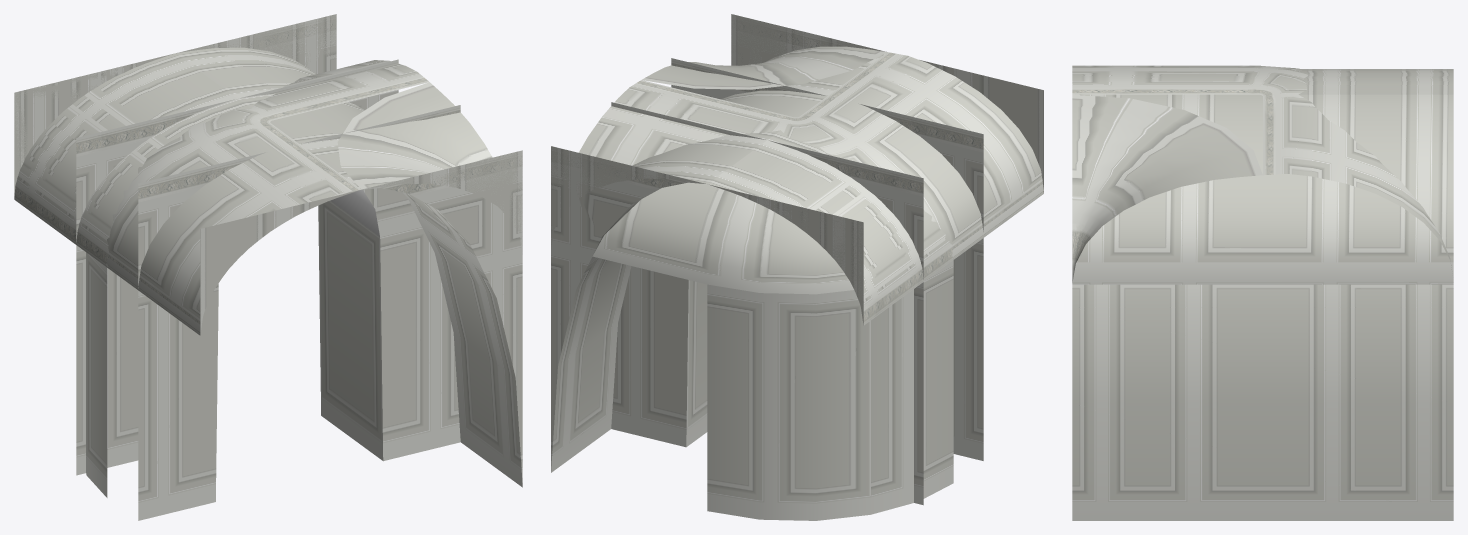
Rendered from E02_vaults.fbx.
3 views of the same model, side by side, from view 1: azimuth 30°, elevation 25°; view 2: azimuth 150°, elevation 25°; view 3: azimuth 270°, elevation 25° (orthographic). The views are drawn at different scales.
Parts seen in each view (by area): view 1: E02_wall_add_on_01, E02_wall_add_on_01_2, E02_vault_turn_int, E02_vault, E02_vault_turn_ext, E02_vault_half_R, vault_wall_corner, E02_vault_half_lid_R1, E02_vault_half_lid_R1_2, E02_vault_half_lid_R2_2, E02_vault_half_lid_R2, E02_vault_lid_2 (+1 smaller); view 2: vault_wall_corner, E02_vault_turn_int, E02_wall_add_on_01, E02_wall_add_on_01_2, E02_vault, E02_vault_half_R, E02_vault_turn_ext, E02_vault_half_lid_R2, E02_vault_half_lid_R2_2, E02_vault_half_lid_R1_2, E02_vault_half_lid_R1, E02_vault_lid_2 (+1 smaller); view 3: E02_wall_add_on_01_2, E02_vault, E02_vault_turn_ext, E02_vault_turn_int, E02_vault_half_R.
Boxes of the visible parts, x1=… form: E02_wall_add_on_01: x1=76, y1=59, x2=460, y2=520; E02_wall_add_on_01_2: x1=179, y1=14, x2=522, y2=487; E02_vault_turn_int: x1=106, y1=60, x2=429, y2=331; E02_vault: x1=14, y1=47, x2=364, y2=335; E02_vault_turn_ext: x1=337, y1=82, x2=492, y2=189; E02_vault_half_R: x1=17, y1=53, x2=357, y2=246; vault_wall_corner: x1=86, y1=252, x2=107, y2=497; E02_vault_half_lid_R1: x1=200, y1=190, x2=359, y2=334; E02_vault_half_lid_R1_2: x1=363, y1=150, x2=522, y2=254; E02_vault_half_lid_R2_2: x1=176, y1=14, x2=336, y2=73; E02_vault_half_lid_R2: x1=14, y1=53, x2=173, y2=195; E02_vault_lid_2: x1=14, y1=54, x2=170, y2=169; vault_wall_corner: x1=707, y1=257, x2=953, y2=520; E02_vault_turn_int: x1=578, y1=52, x2=1043, y2=294; E02_wall_add_on_01: x1=611, y1=58, x2=983, y2=505; E02_wall_add_on_01_2: x1=551, y1=14, x2=858, y2=472; E02_vault: x1=632, y1=53, x2=1043, y2=325; E02_vault_half_R: x1=707, y1=130, x2=949, y2=304; E02_vault_turn_ext: x1=642, y1=46, x2=887, y2=89; E02_vault_half_lid_R2: x1=711, y1=185, x2=863, y2=325; E02_vault_half_lid_R2_2: x1=551, y1=146, x2=705, y2=248; E02_vault_half_lid_R1_2: x1=731, y1=14, x2=886, y2=65; E02_vault_half_lid_R1: x1=920, y1=60, x2=1043, y2=188; E02_vault_lid_2: x1=710, y1=185, x2=863, y2=323; E02_wall_add_on_01_2: x1=1072, y1=284, x2=1453, y2=520; E02_vault: x1=1072, y1=69, x2=1453, y2=284; E02_vault_turn_ext: x1=1072, y1=94, x2=1262, y2=282; E02_vault_turn_int: x1=1072, y1=65, x2=1453, y2=277; E02_vault_half_R: x1=1299, y1=69, x2=1453, y2=94.
Bounding box in the file's own units: 300 × 301 × 300.
Materials: 16 (13 with a texture image).
